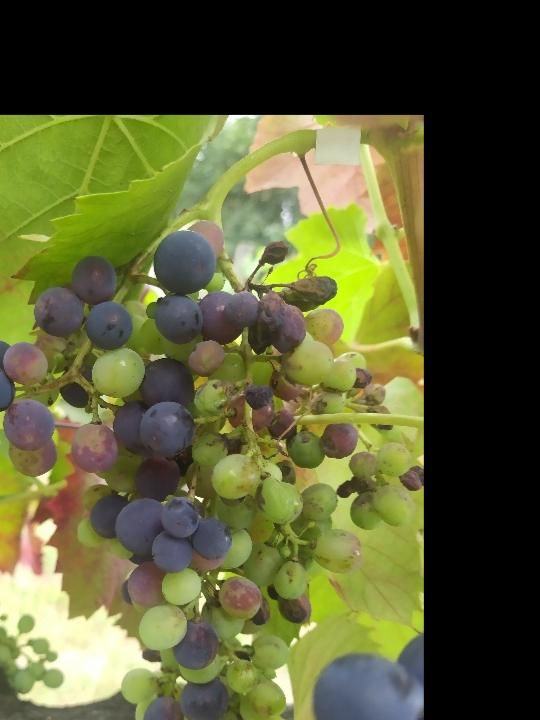grape: (0, 215, 424, 720)
